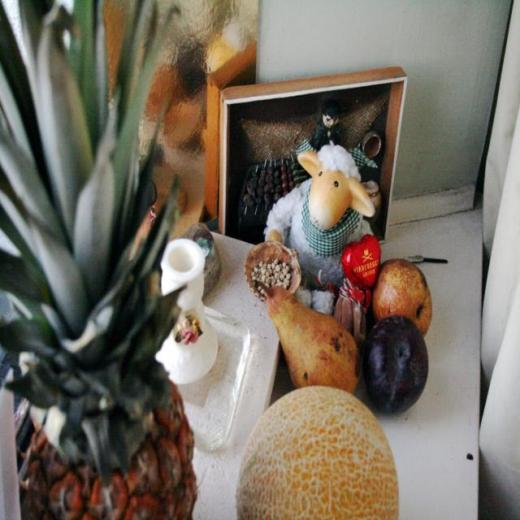Mango: (0, 0, 198, 519)
